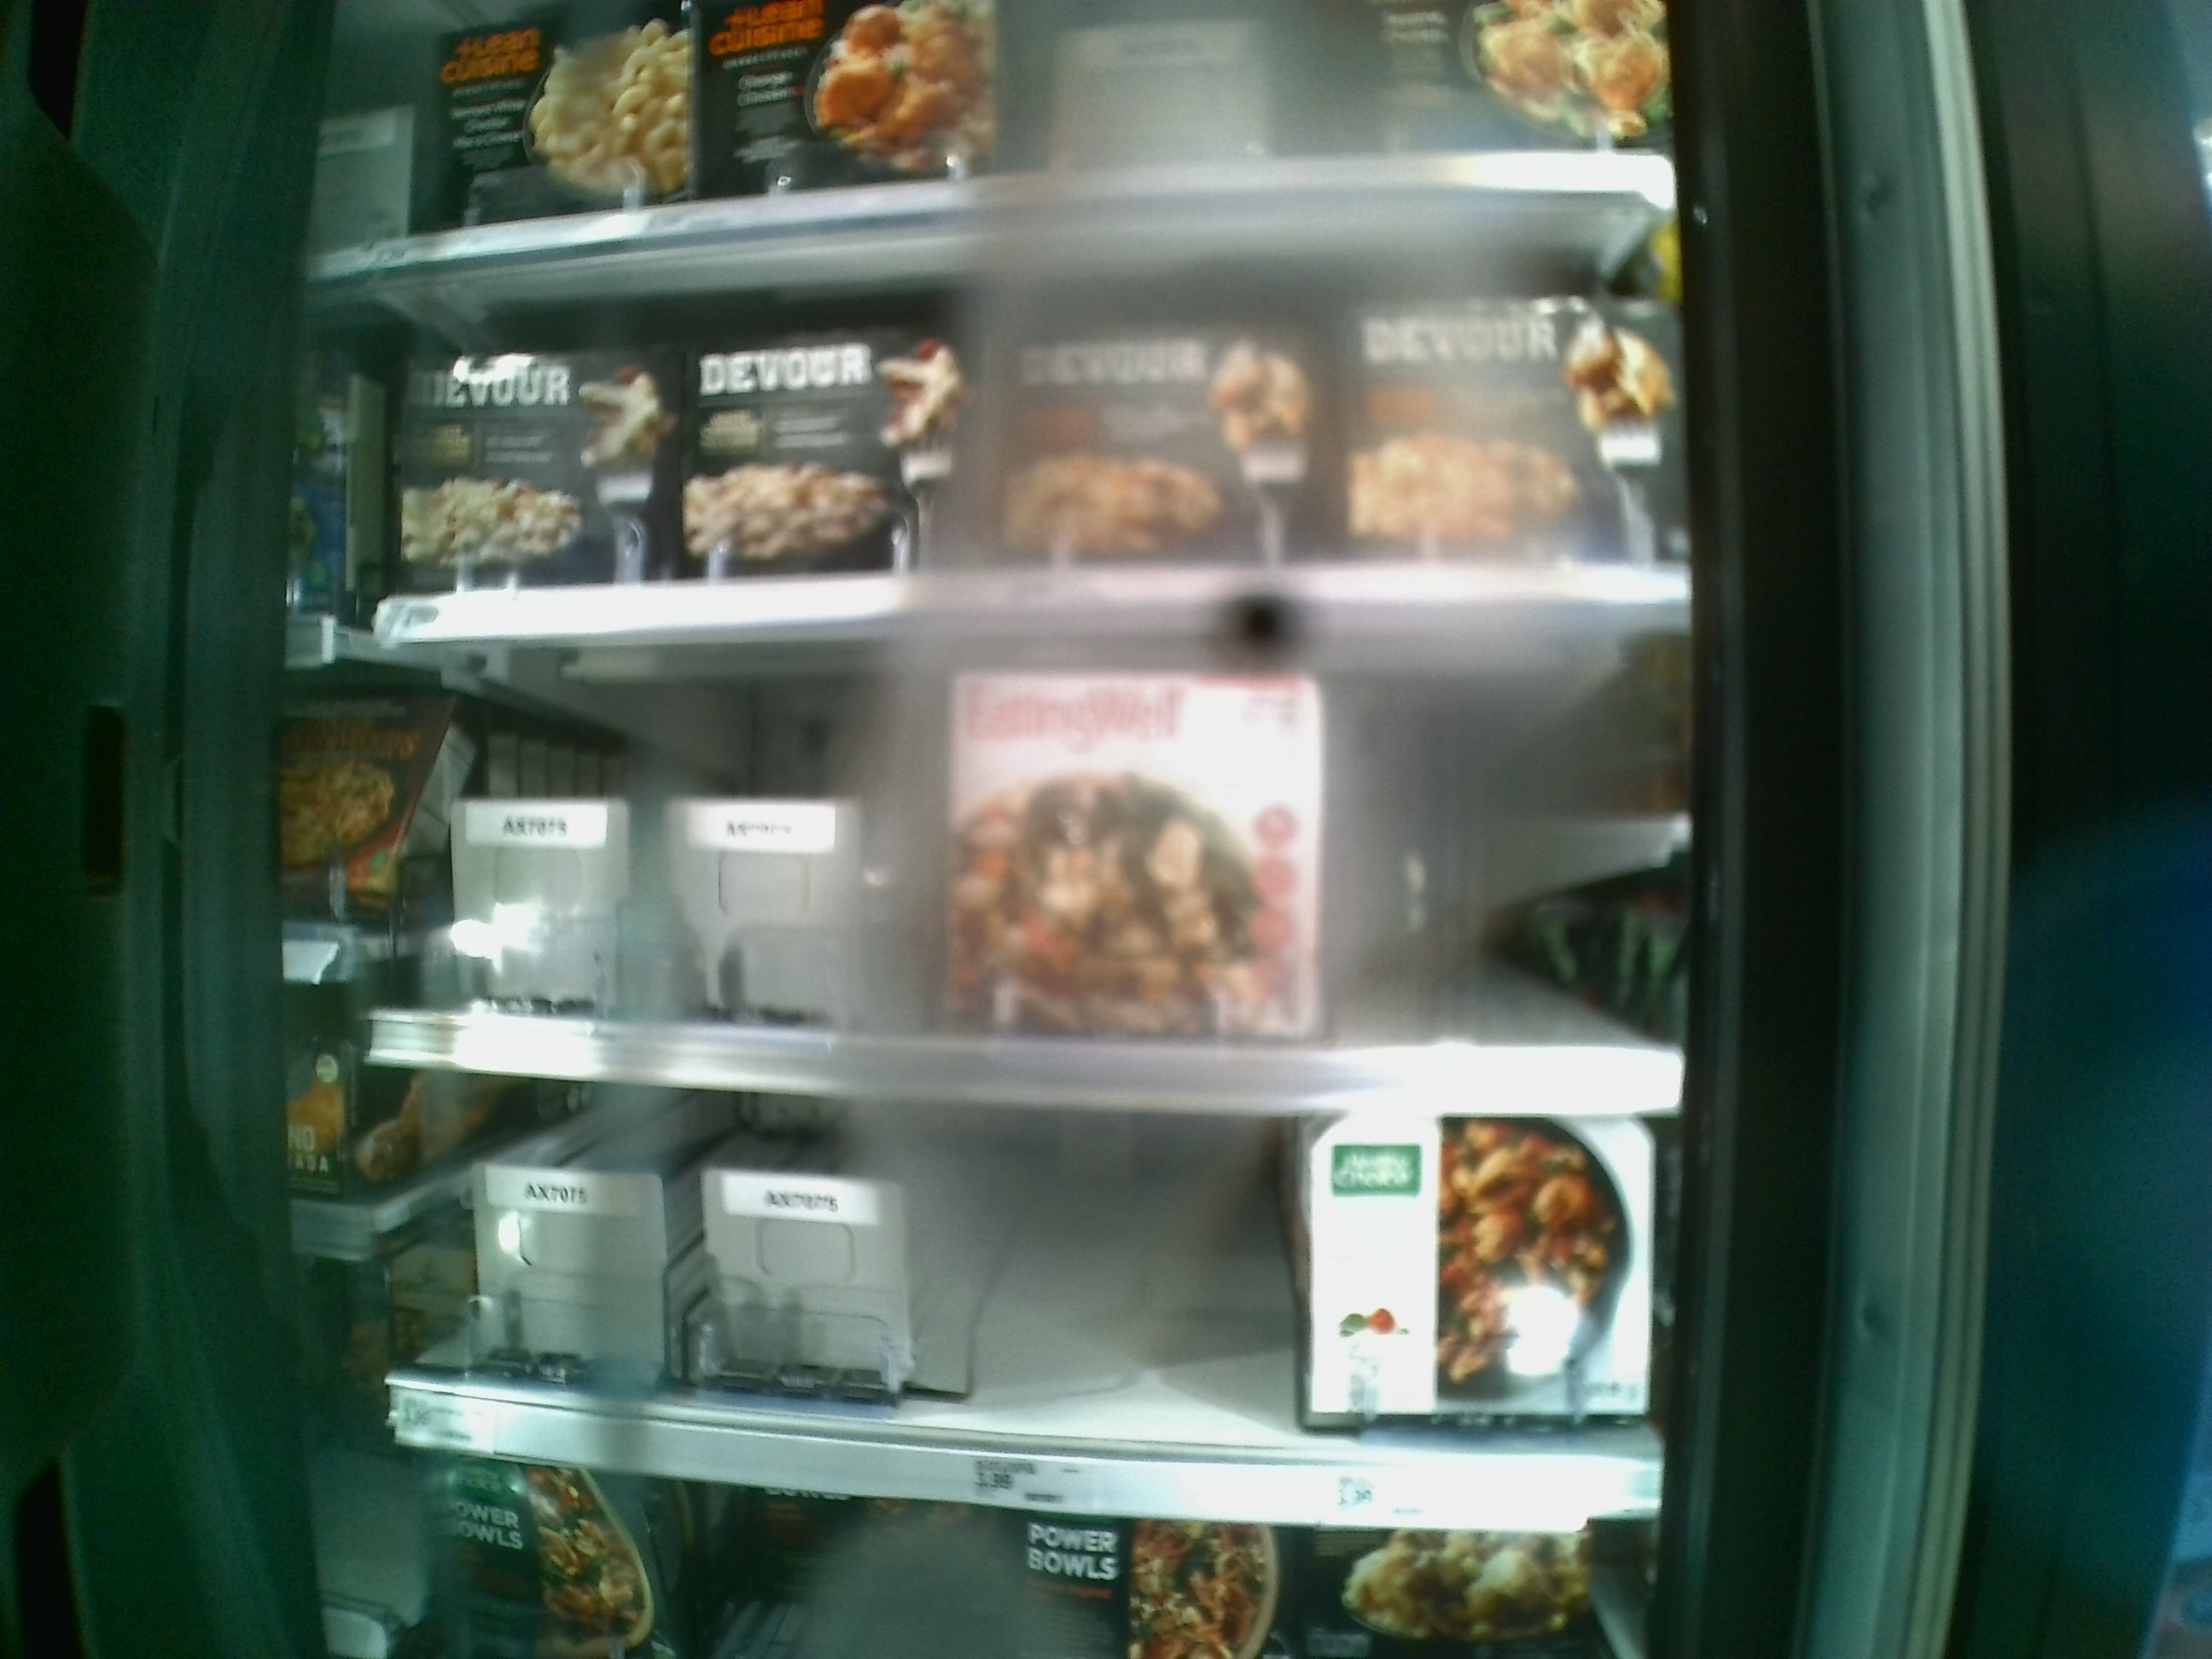shelf: (371, 613, 1686, 1114), (359, 1063, 1674, 1530), (340, 186, 1674, 643)
